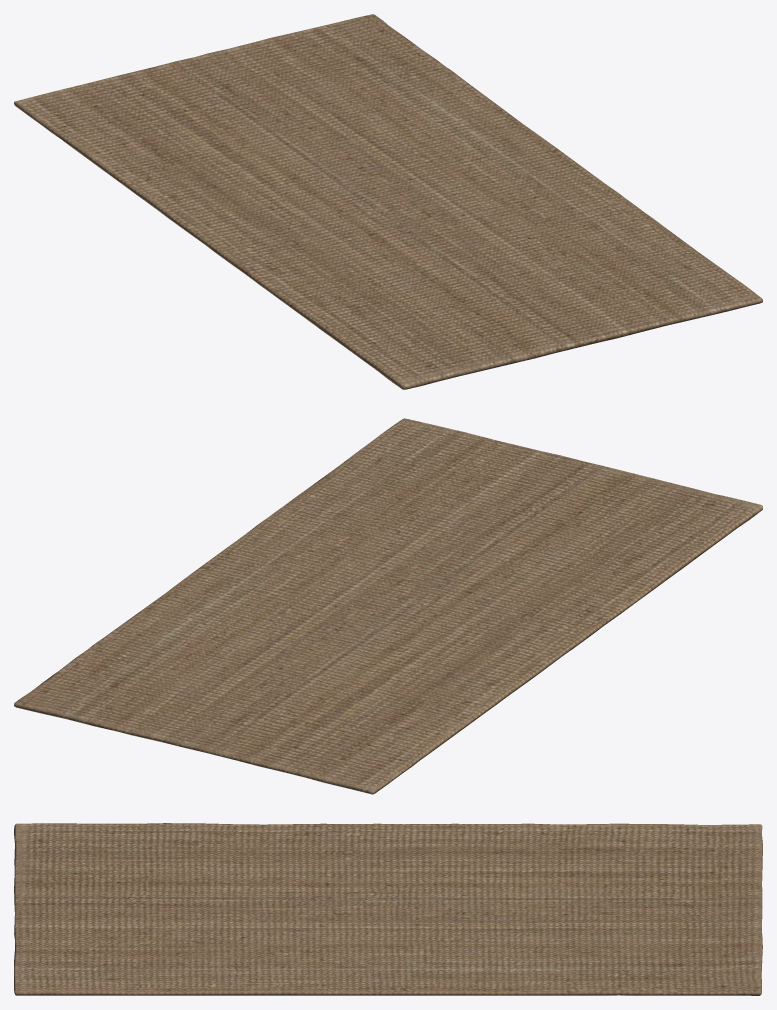
3 views of the same model, one above another, from view 1: azimuth 30°, elevation 25°; view 2: azimuth 150°, elevation 25°; view 3: azimuth 270°, elevation 25° (orthographic). The views are drawn at different scales.
Parts seen in each view (by area): view 1: PRT_isrz9st3_P01_S01_NV01; view 2: PRT_isrz9st3_P01_S01_NV01; view 3: PRT_isrz9st3_P01_S01_NV01.
Part boxes in pixels (<box>): PRT_isrz9st3_P01_S01_NV01: <box>14,14,762,389</box>; PRT_isrz9st3_P01_S01_NV01: <box>14,418,762,794</box>; PRT_isrz9st3_P01_S01_NV01: <box>14,823,762,995</box>.
Size of the model in its own units: 0.8012 by 0.0129 by 1.5.
1 material, 1 textured.
